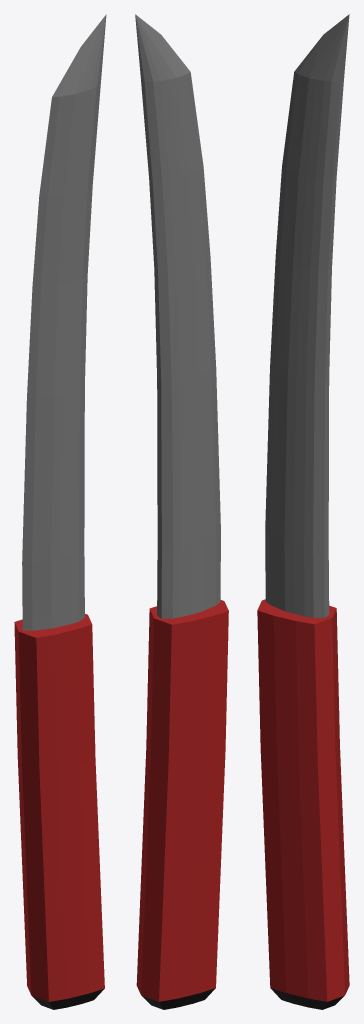
The model's file is Asian_Prop_Weapon_Tanto_02.FBX.
3 renders of one model, left to right at view 1: azimuth 30°, elevation 25°; view 2: azimuth 210°, elevation 25°; view 3: azimuth 330°, elevation 25°, orthographic.
Parts seen in each view (by area): view 1: Asian_Prop_Weapon_Tanto_02; view 2: Asian_Prop_Weapon_Tanto_02; view 3: Asian_Prop_Weapon_Tanto_02.
Boxes of the visible parts, x1=… form: Asian_Prop_Weapon_Tanto_02: x1=14, y1=14, x2=106, y2=1009; Asian_Prop_Weapon_Tanto_02: x1=135, y1=14, x2=228, y2=1009; Asian_Prop_Weapon_Tanto_02: x1=257, y1=14, x2=349, y2=1009.
Size of the model in its own units: 62.43 by 670 by 30.38.
